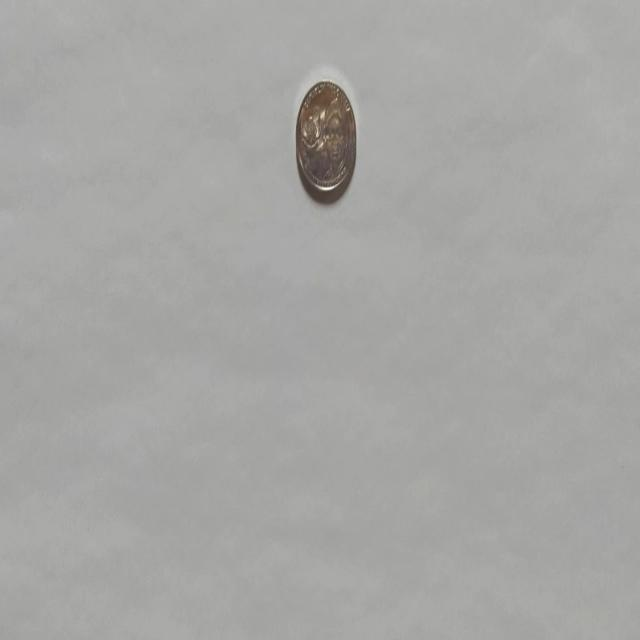dua ratus rupiah: (294, 78, 356, 198)
